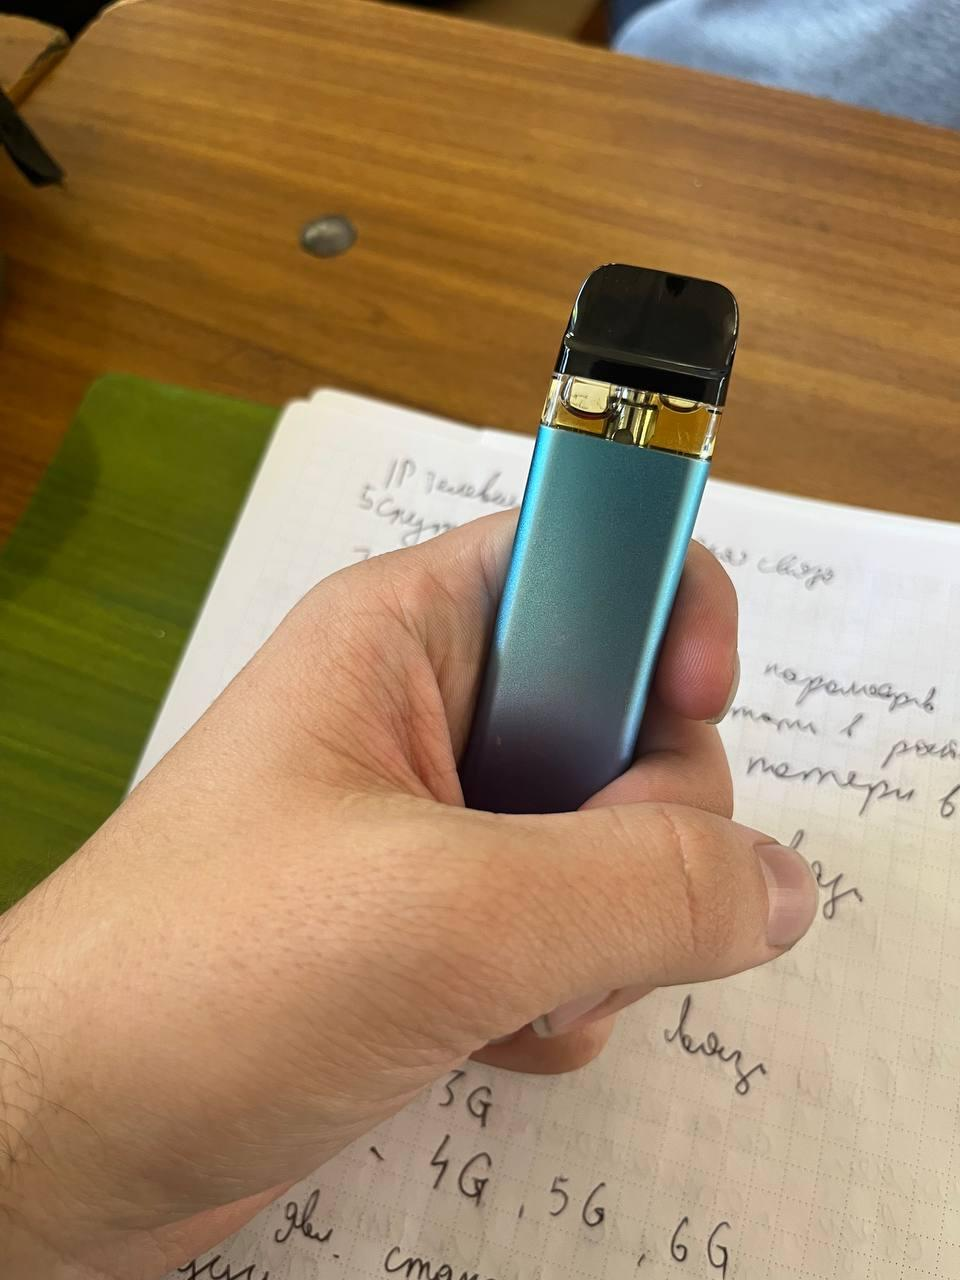Vape: (459, 264, 738, 813)
